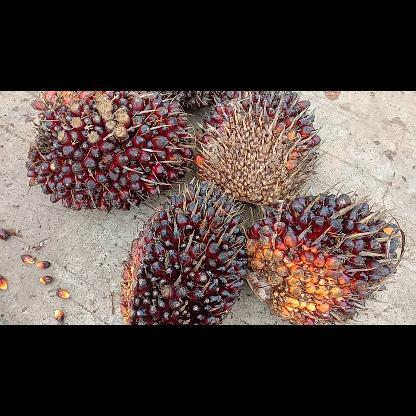TBS mentah: (242, 182, 404, 324), (26, 91, 194, 211), (119, 178, 247, 324), (193, 90, 325, 206)
